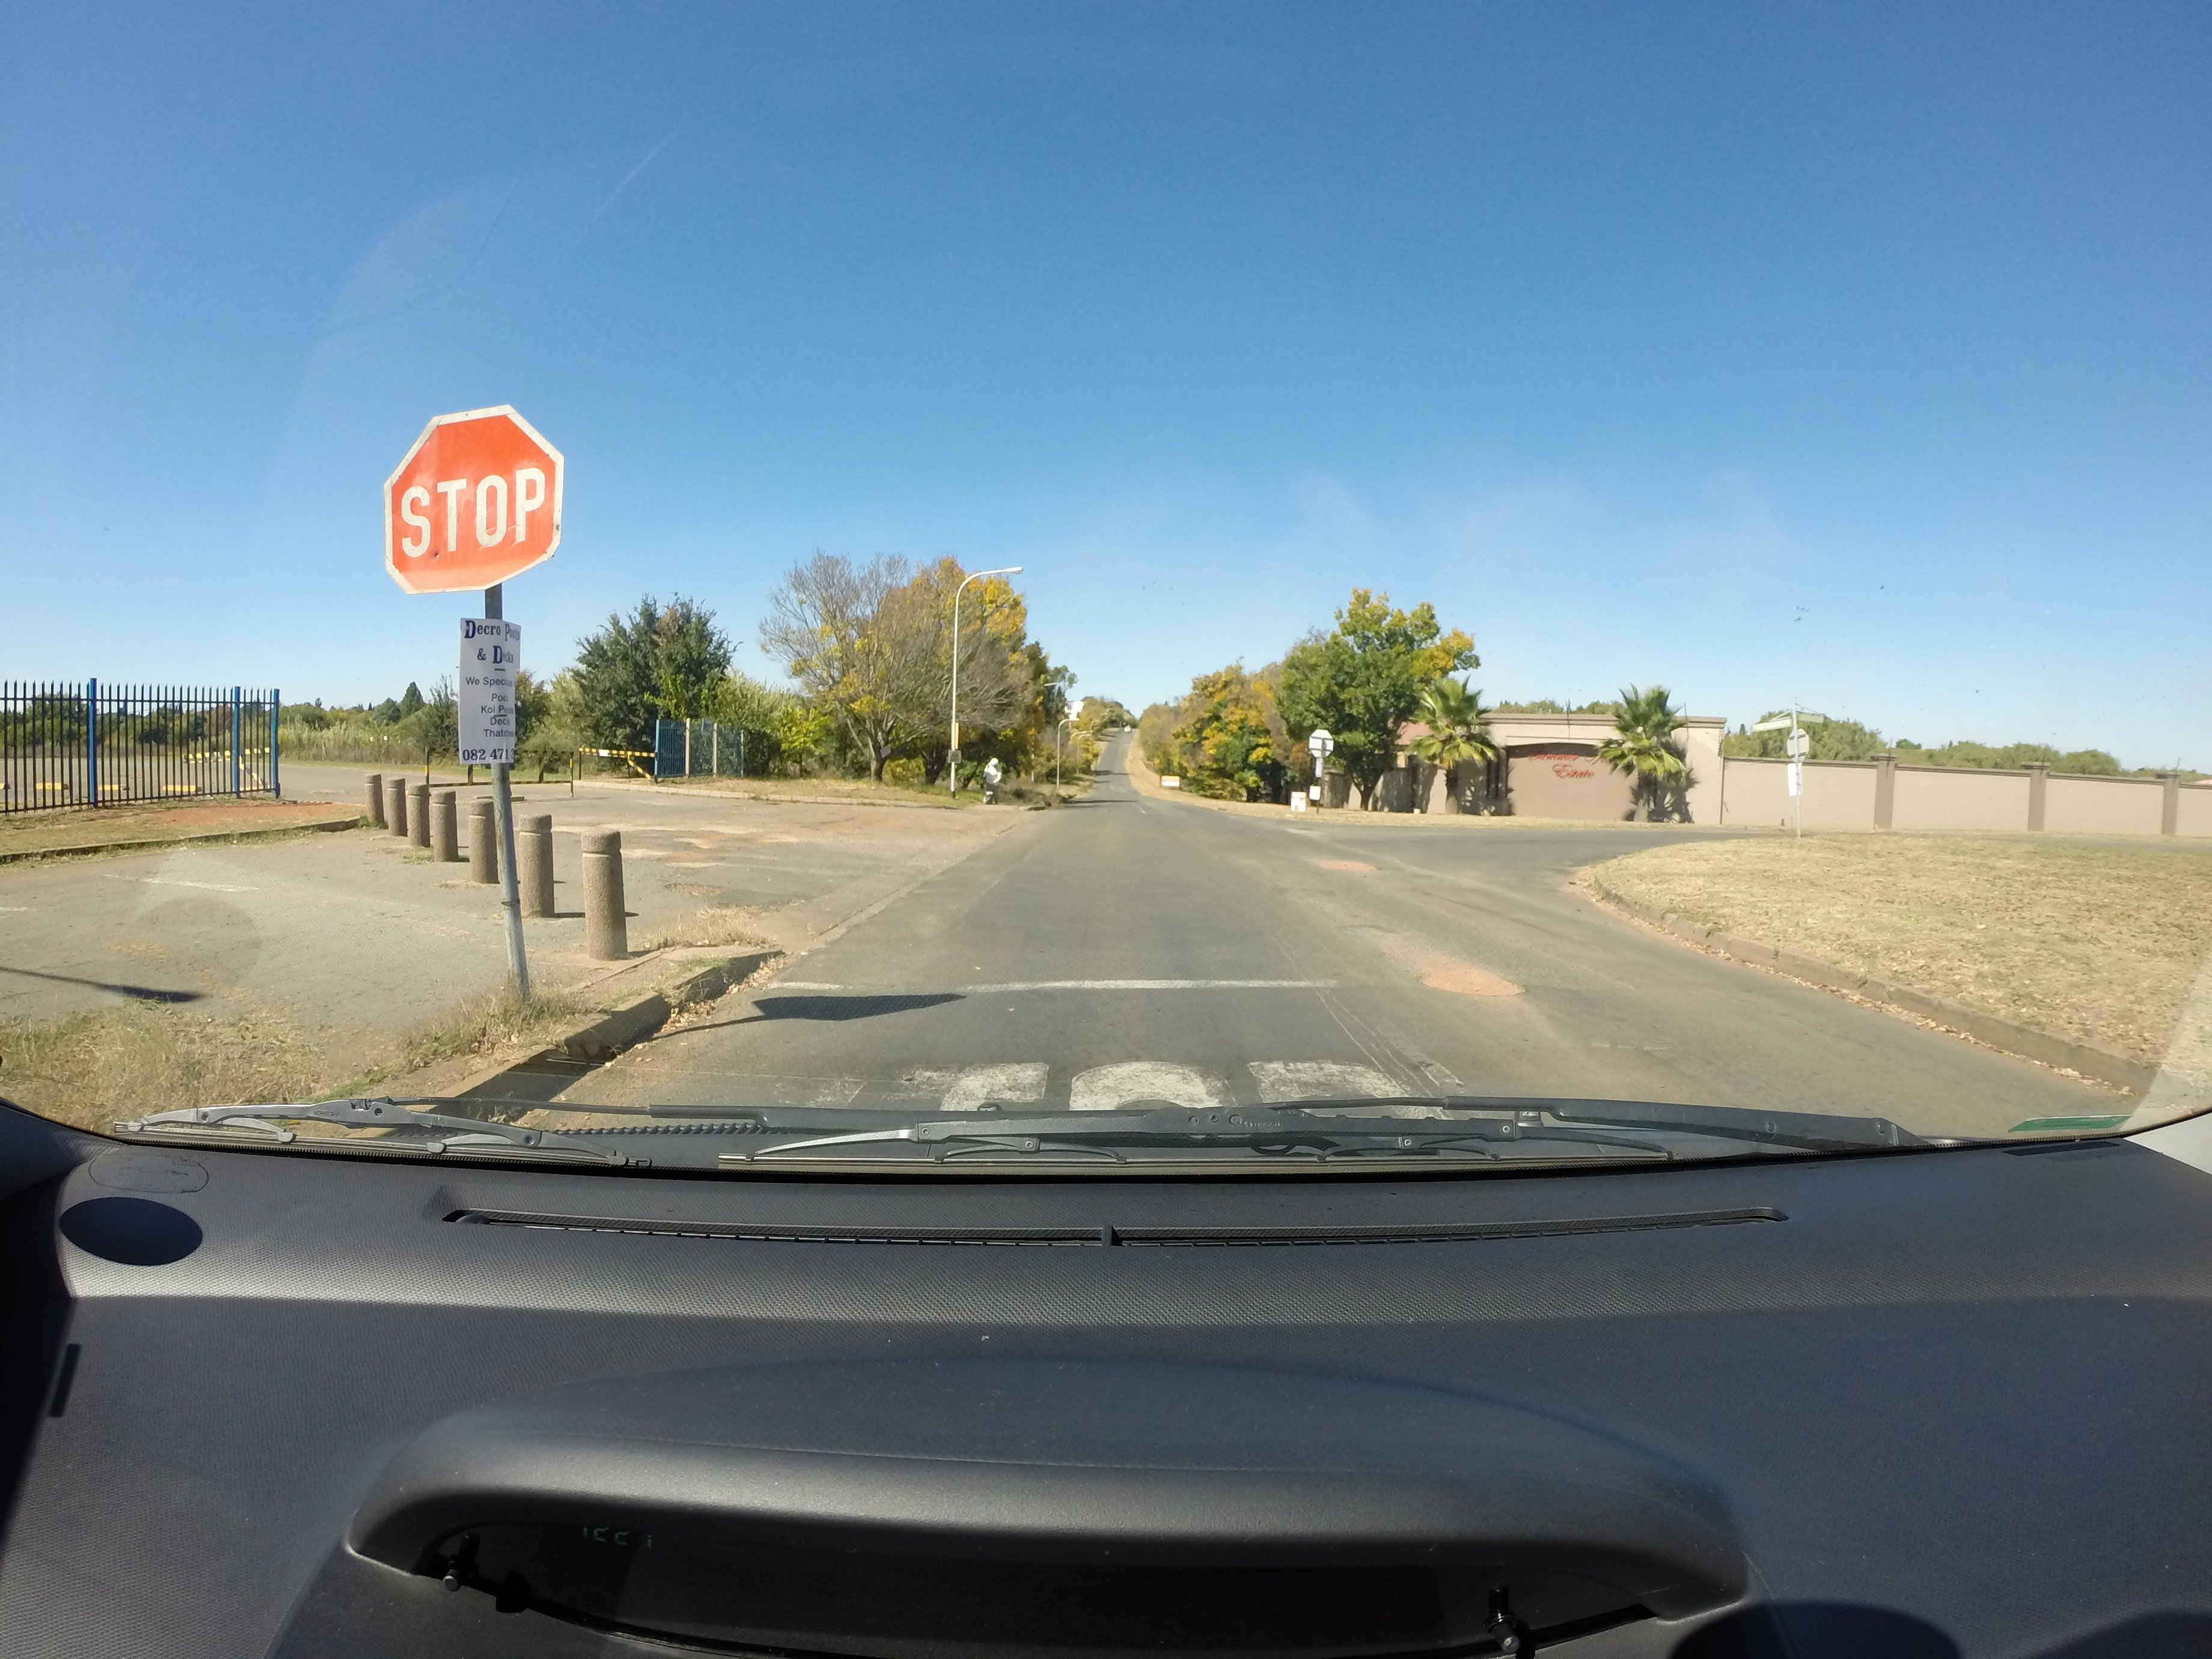pothole: (1414, 962, 1543, 1000), (1312, 852, 1390, 882)
